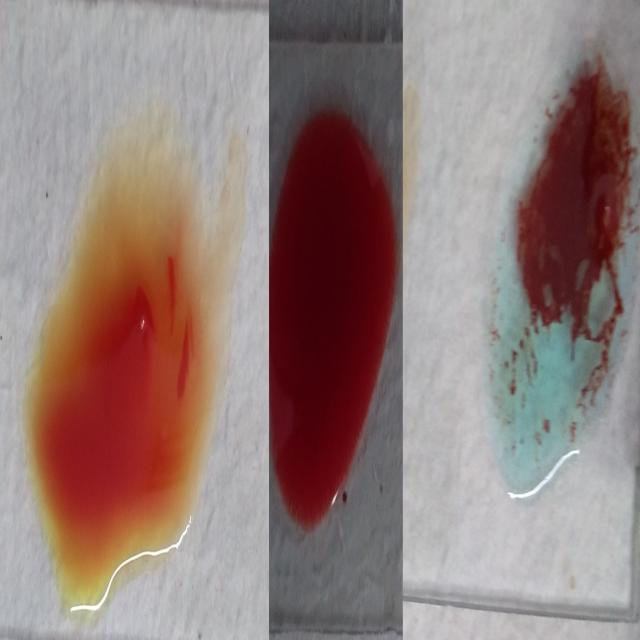A: (503, 28, 632, 500)
